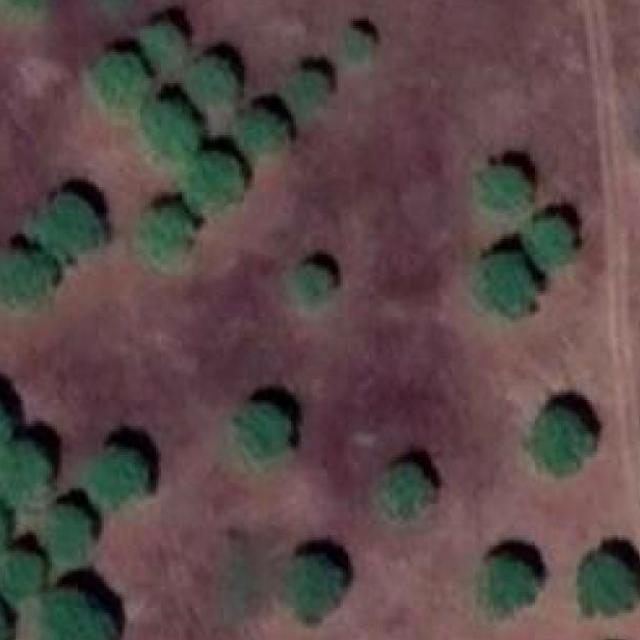Tree: (35, 192, 111, 260), (137, 94, 203, 164), (530, 405, 597, 471), (579, 554, 639, 621), (42, 587, 112, 640), (480, 254, 542, 310), (96, 445, 152, 507), (0, 441, 54, 502), (96, 49, 146, 109), (146, 206, 198, 263), (0, 250, 50, 308), (192, 142, 239, 203), (46, 507, 98, 562), (298, 556, 348, 613), (235, 397, 282, 457), (483, 556, 530, 616), (187, 55, 239, 107), (386, 464, 436, 514), (480, 166, 532, 211), (0, 554, 50, 598), (238, 107, 283, 154), (530, 218, 569, 268), (140, 21, 182, 65), (291, 76, 330, 112), (332, 32, 374, 62), (298, 268, 329, 302), (2, 0, 52, 16), (0, 493, 11, 564), (0, 592, 16, 640), (101, 0, 130, 16)
